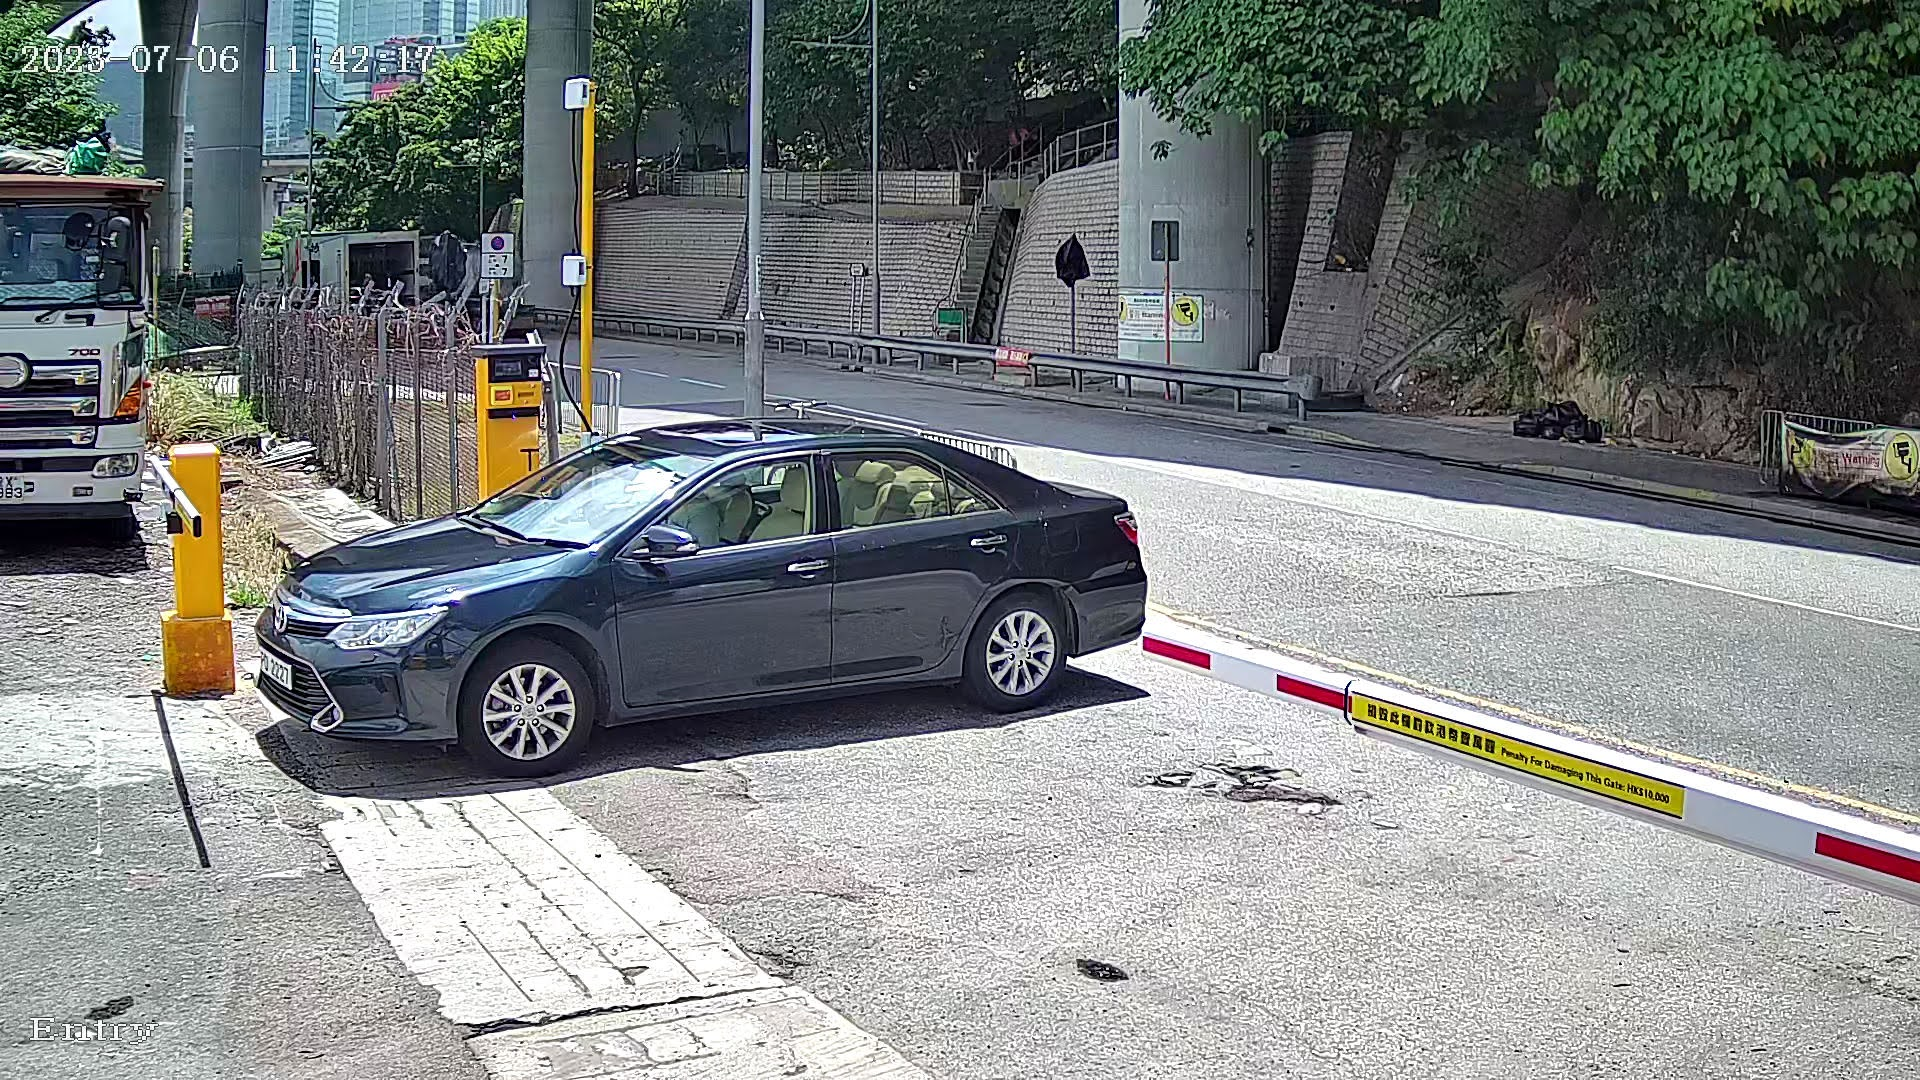privatecar: (200, 404, 1220, 853)
